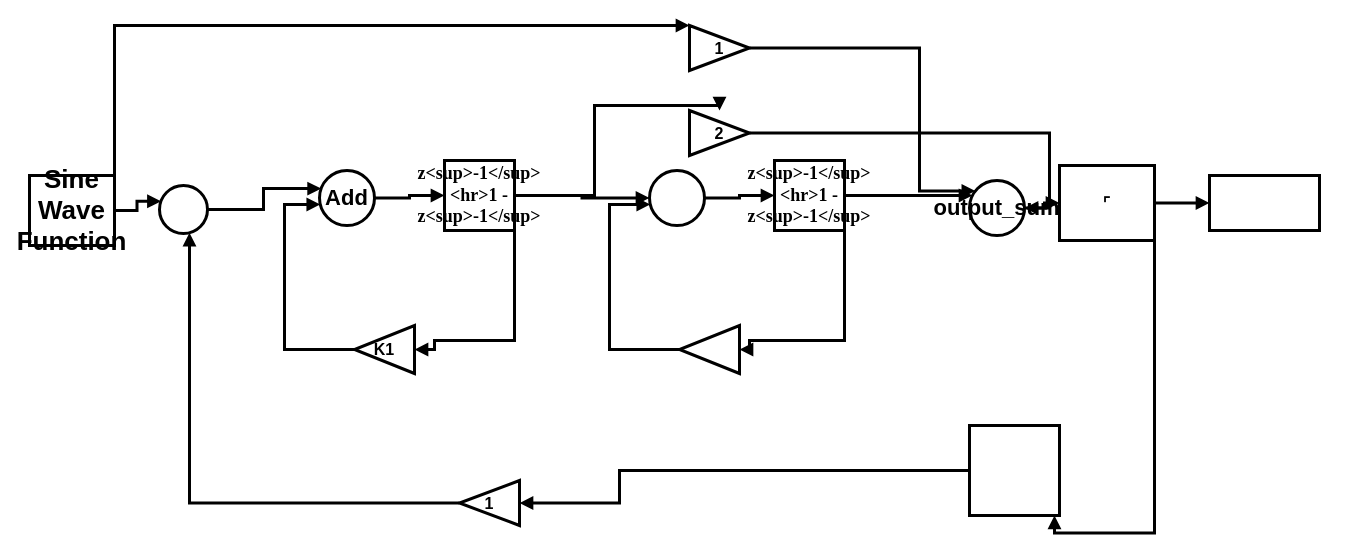
Image size: 1351x560. Some labels were removed from this diagram. The shapes that lost their labels are listed below. From the top down, each one's centre as x and y in pixels, then its label:
the point at 183,209: input_sum
the point at 677,197: Add1
the point at 1264,203: To Workspace
the point at 709,349: K2
the point at 1014,470: DWA
